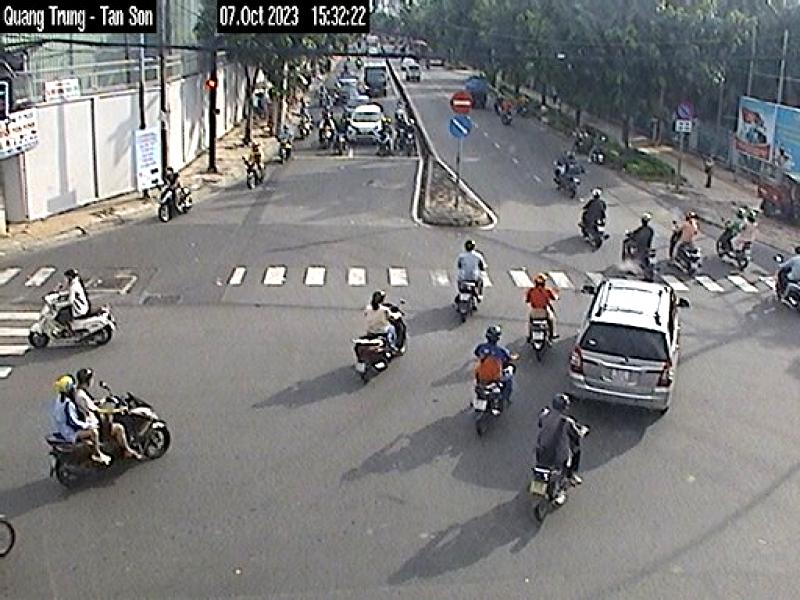car: (557, 270, 686, 413)
motorcycle: (42, 383, 192, 490), (19, 287, 128, 363), (338, 296, 427, 383)
